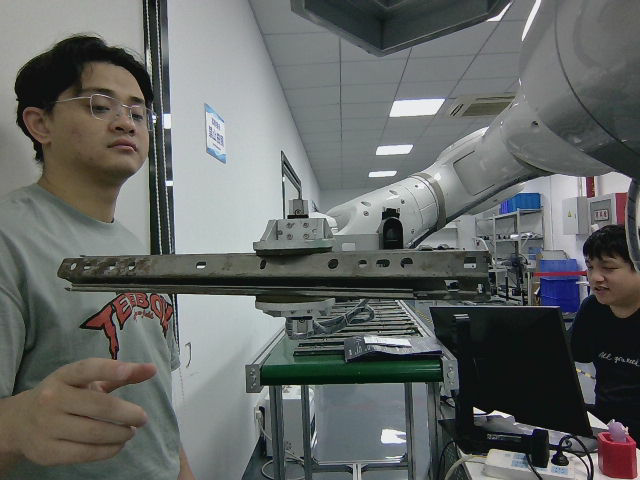right: (57, 252, 491, 296)
